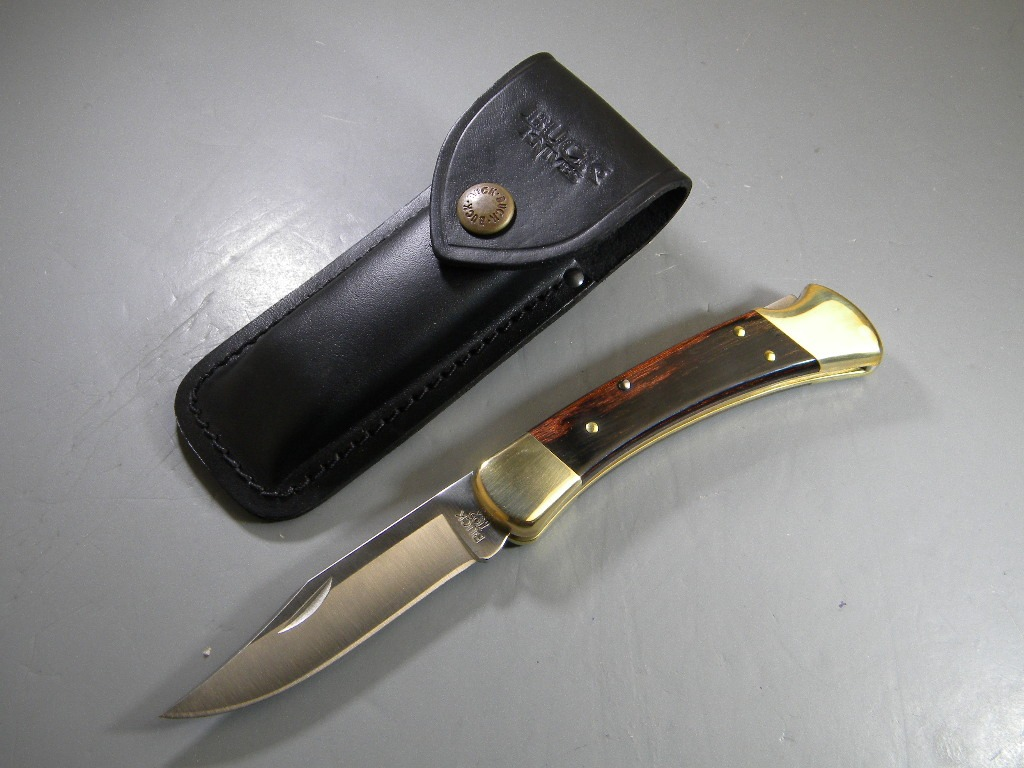knife: (148, 456, 543, 729)
